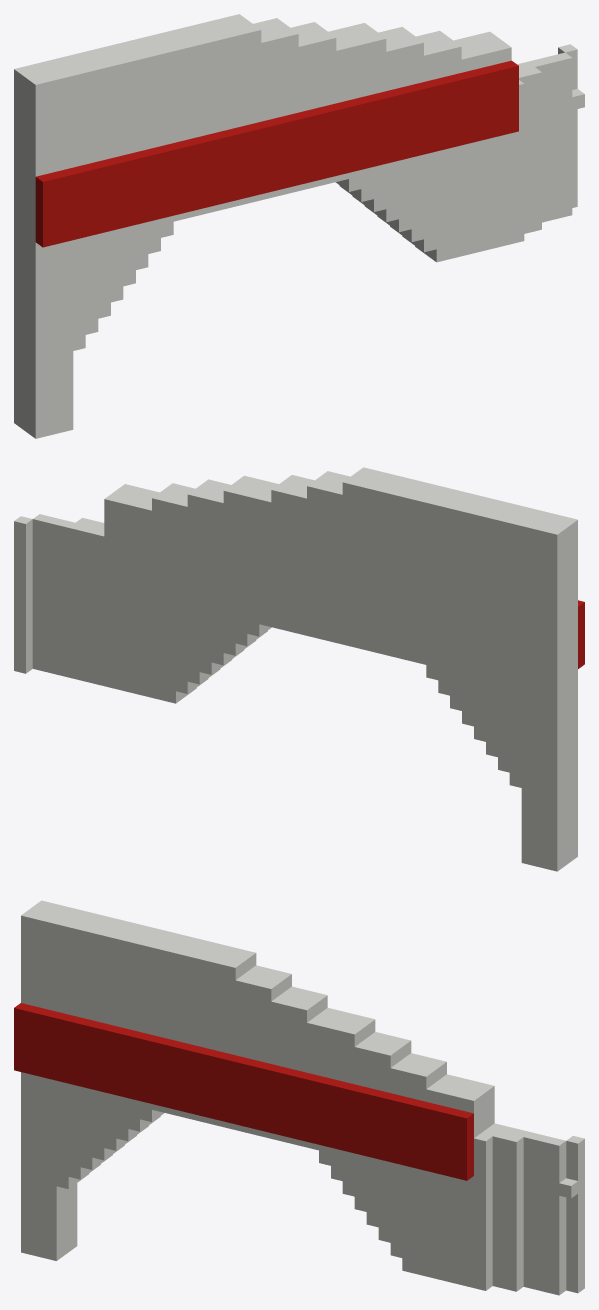
Rendered from ambulance_front_wing.glb.
The picture shows the model from 3 angles, top to bottom: view 1: azimuth 30°, elevation 25°; view 2: azimuth 150°, elevation 25°; view 3: azimuth 330°, elevation 25°; orthographic projection. The views are drawn at different scales.
Parts seen in each view (by area): view 1: body:compound; view 2: body:compound; view 3: body:compound.
Boxes of the visible parts, left/top/right/bottom form: body:compound: left=14, top=14, right=584, bottom=438; body:compound: left=14, top=467, right=584, bottom=871; body:compound: left=14, top=900, right=584, bottom=1295.
Bounding box in the file's own units: 1.41 × 0.8438 × 0.1562.
